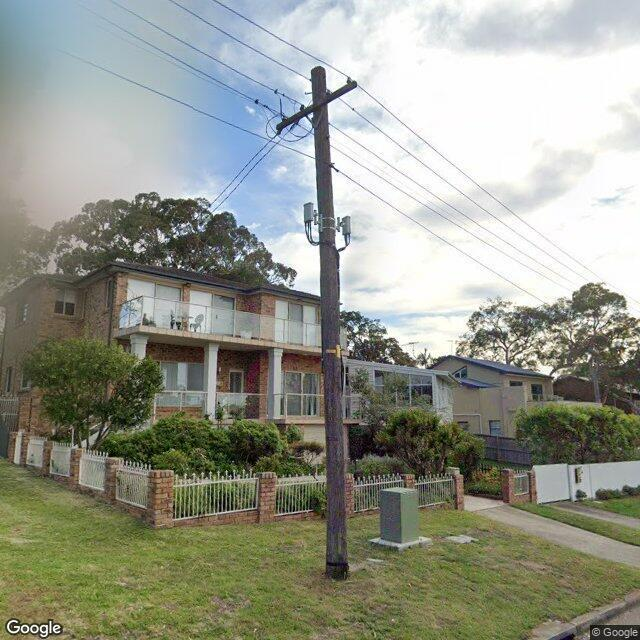crossarm: (275, 81, 358, 132)
timber-pole: (312, 68, 351, 576)
